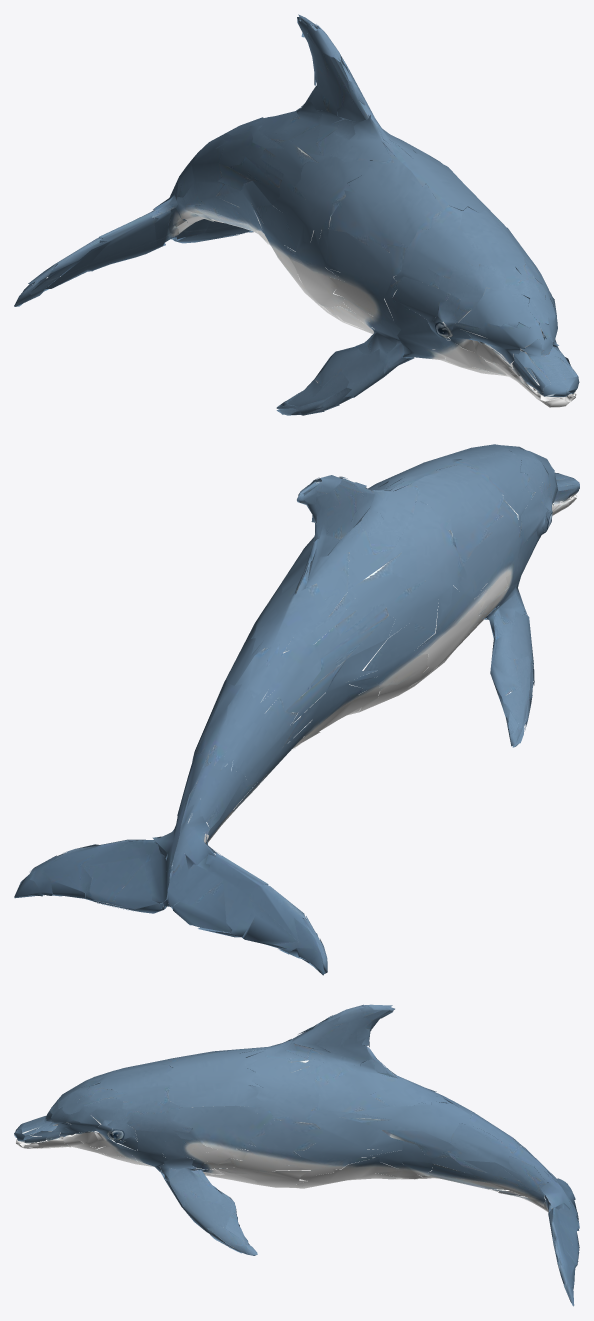
File: golfinho.glb
3 renders of one model, top to bottom at view 1: azimuth 30°, elevation 25°; view 2: azimuth 150°, elevation 25°; view 3: azimuth 270°, elevation 25°, orthographic. The views are drawn at different scales.
Parts seen in each view (by area): view 1: golfinho; view 2: golfinho; view 3: golfinho.
Part boxes in pixels (x1,y1,x2,y2): golfinho: (14, 14, 579, 415); golfinho: (14, 444, 579, 975); golfinho: (14, 1004, 579, 1306).
Size of the model in its own units: 1.09 by 1.16 by 2.4.
1 material, 1 textured.
